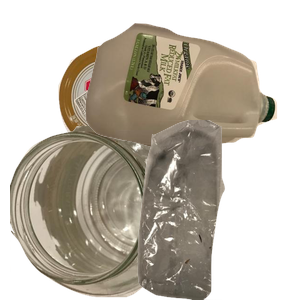glass: (10, 126, 216, 300)
metal: (56, 43, 211, 187)
plastic: (83, 21, 300, 162)
trash: (114, 120, 300, 300)
